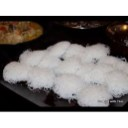idiyappam: (38, 48, 82, 74), (52, 72, 86, 99), (82, 54, 115, 80), (80, 82, 111, 109), (2, 60, 33, 84), (27, 66, 55, 89), (106, 68, 128, 96), (20, 45, 47, 65)
